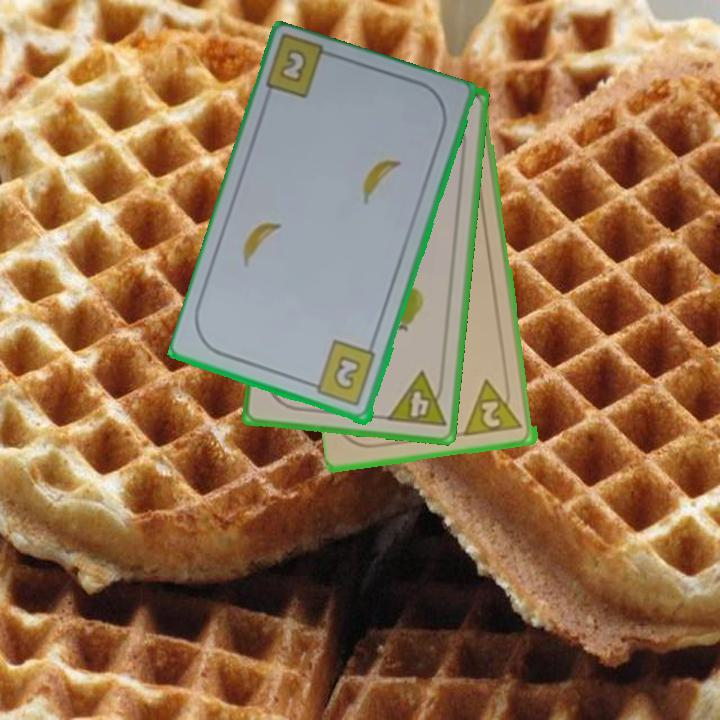2b: (305, 338, 379, 410), (276, 48, 308, 87)
2p: (462, 374, 527, 439)
4p: (383, 368, 449, 431)
